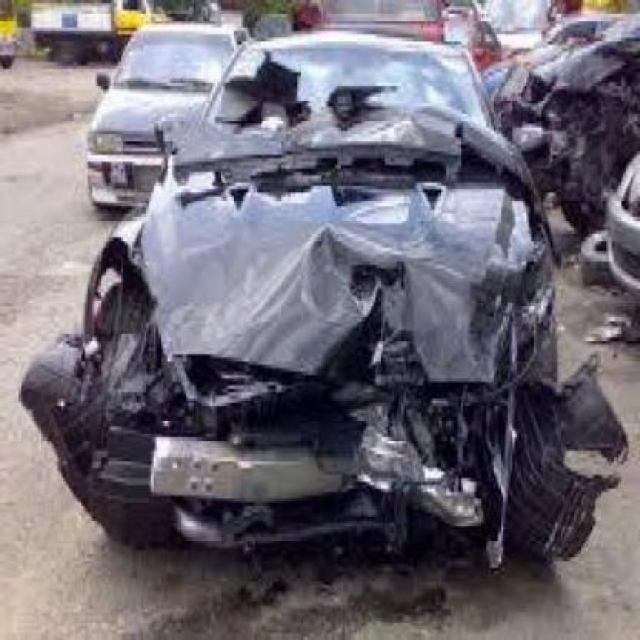damage: (33, 56, 619, 554)
